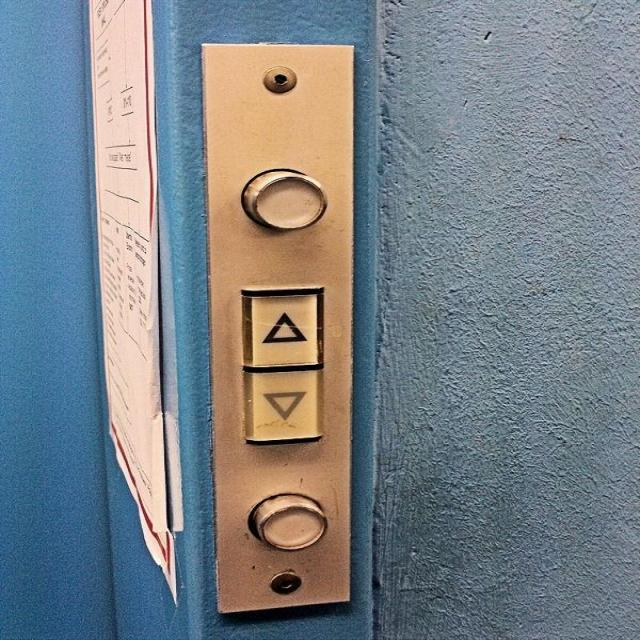down: (232, 366, 326, 444)
empty: (241, 165, 331, 231), (245, 490, 330, 553)
up: (232, 284, 326, 368)
